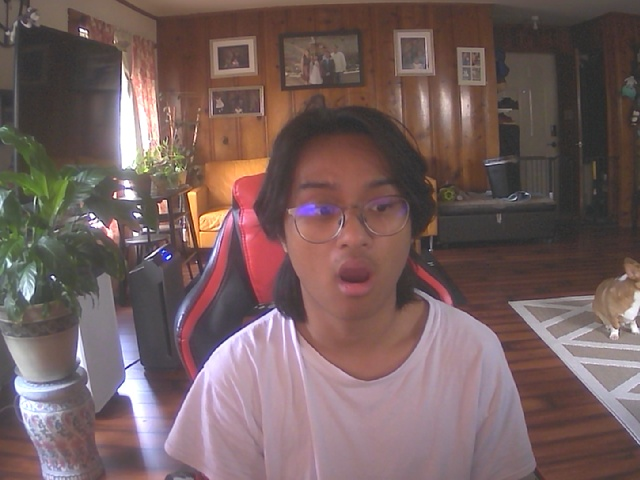fear: (274, 110, 423, 327)
